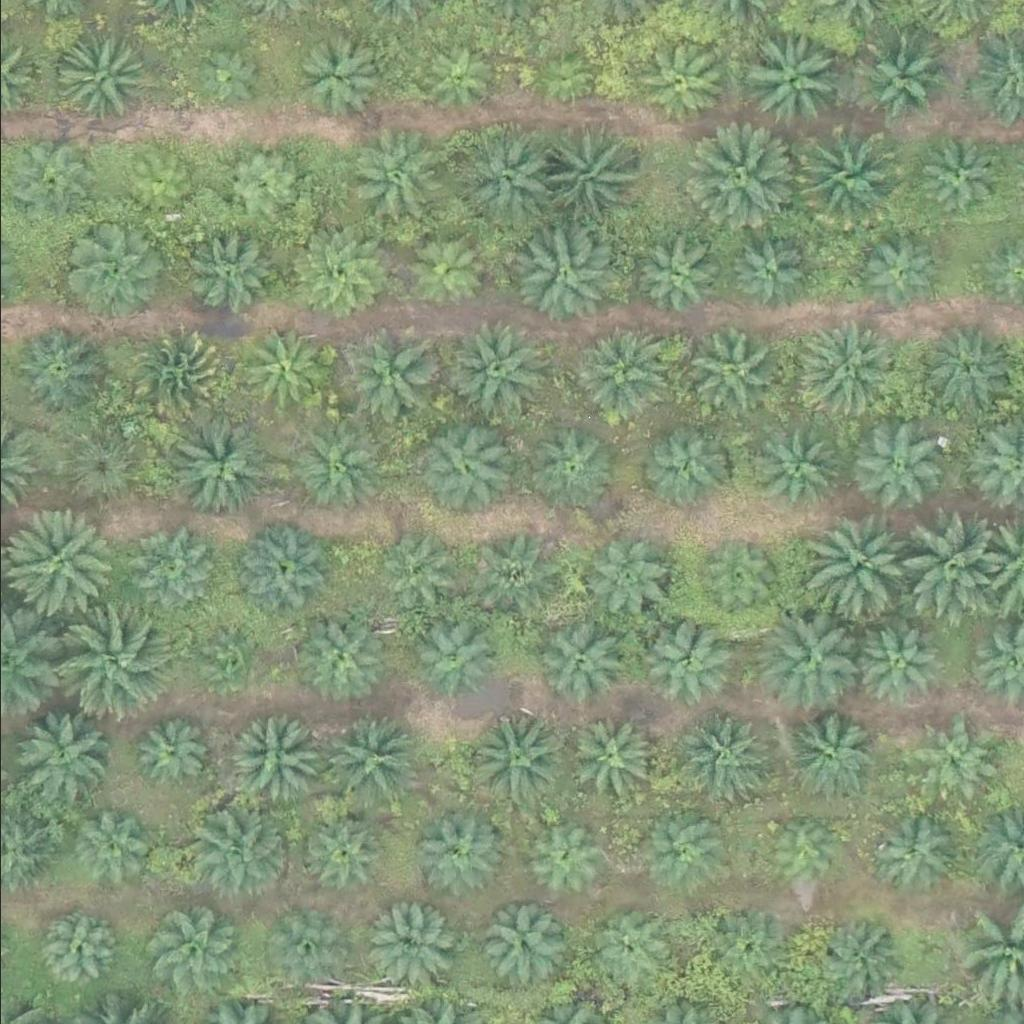Kelapa_Sawit: (1, 509, 114, 622), (52, 609, 166, 721), (786, 124, 899, 236), (687, 120, 800, 232), (189, 796, 290, 896), (229, 523, 330, 623), (172, 415, 273, 515), (740, 29, 841, 129), (452, 132, 553, 232), (338, 128, 439, 228), (291, 225, 392, 325), (515, 228, 616, 328), (343, 324, 444, 424), (800, 321, 901, 421), (569, 327, 670, 427), (420, 417, 521, 517), (287, 415, 388, 515), (813, 511, 914, 611), (757, 614, 858, 714), (461, 709, 562, 809), (321, 712, 422, 812), (807, 914, 908, 1014), (223, 710, 323, 810), (7, 704, 107, 804), (61, 219, 161, 319), (126, 328, 226, 428), (53, 29, 153, 129), (442, 319, 542, 419), (896, 518, 996, 618), (861, 804, 961, 904), (31, 903, 120, 991), (858, 38, 947, 126), (780, 713, 869, 801), (142, 911, 230, 999), (69, 805, 157, 893), (52, 417, 140, 505), (121, 526, 209, 614), (236, 322, 324, 410), (13, 327, 101, 415), (635, 38, 723, 126), (913, 328, 1001, 416), (642, 422, 730, 510), (522, 423, 610, 511), (578, 537, 666, 625), (464, 530, 552, 618), (846, 623, 934, 711), (635, 615, 723, 703), (534, 619, 622, 707), (405, 611, 493, 699), (911, 716, 999, 804), (675, 713, 763, 801), (696, 909, 784, 997), (215, 140, 303, 228), (626, 229, 715, 316), (755, 425, 844, 512), (185, 222, 273, 309), (3, 136, 91, 223), (291, 33, 379, 120), (916, 138, 1004, 225), (529, 131, 617, 218), (102, 132, 190, 219), (405, 230, 493, 317), (852, 228, 940, 315), (722, 233, 810, 320), (684, 327, 772, 414), (846, 425, 934, 512), (369, 528, 457, 615), (687, 531, 775, 618), (289, 618, 377, 705), (561, 716, 649, 803), (297, 811, 385, 898), (415, 811, 503, 898), (519, 818, 607, 905), (642, 806, 730, 893), (579, 905, 667, 992), (470, 904, 558, 991), (362, 901, 450, 988), (760, 816, 836, 891), (131, 715, 207, 790), (264, 915, 340, 990), (525, 43, 601, 118), (422, 40, 498, 115), (191, 41, 266, 116), (200, 626, 263, 688)
